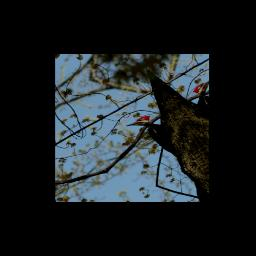Woodpecker: (124, 108, 187, 170)
